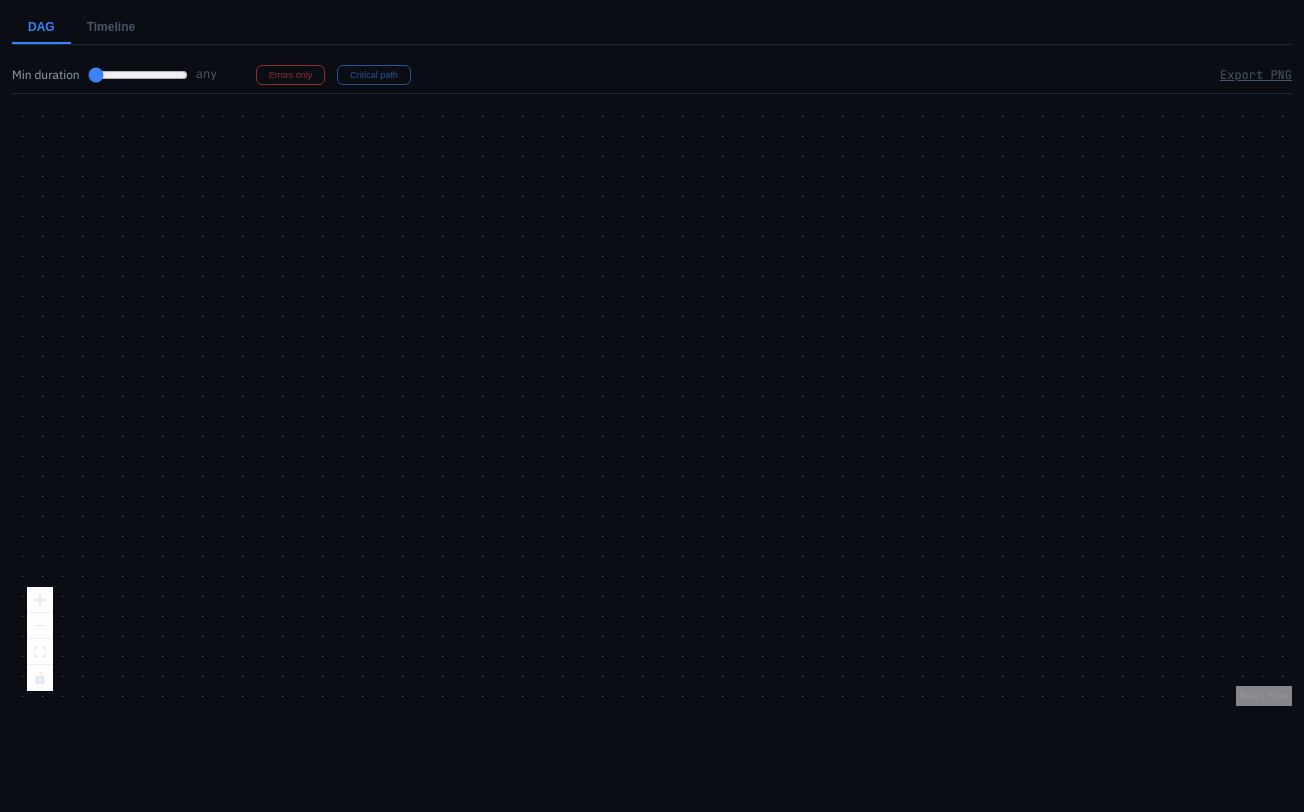
it: AgentWorkflowView › renders Timeline empty state when no evaluation provided
This screenshot has width=1304, height=812.
Click the tab "Timeline": point(111, 28) [71,12,151,44]
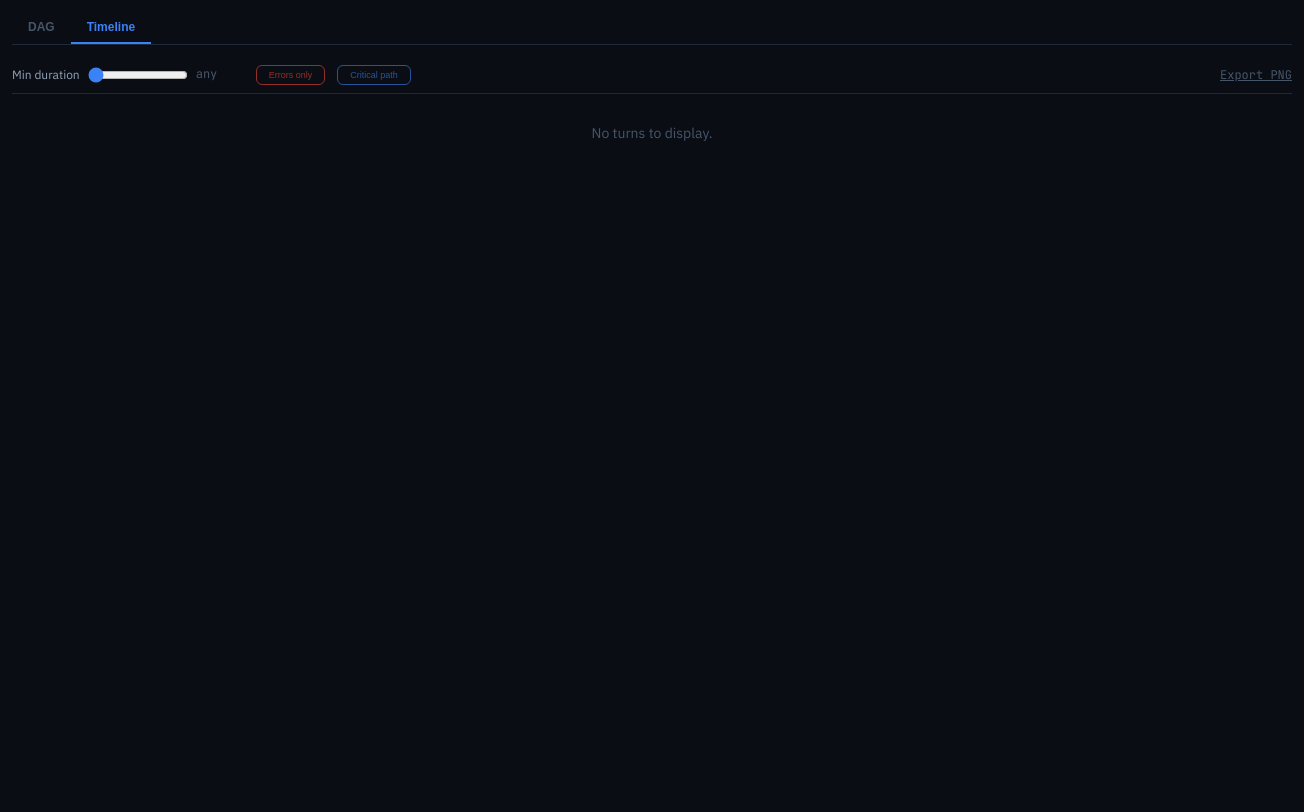
Expected: the text "No turns to display." is shown, [592,124,712,142]
